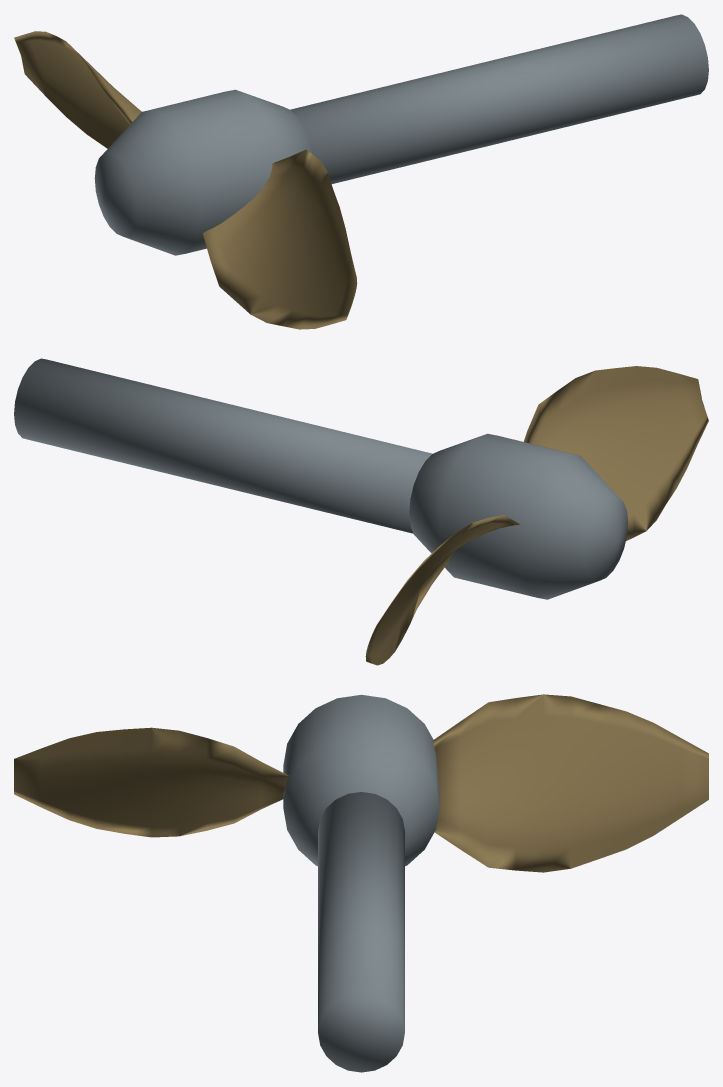
File: PROP_T01_EARLY_LOD1.fbx
3 renders of one model, top to bottom at view 1: azimuth 30°, elevation 25°; view 2: azimuth 150°, elevation 25°; view 3: azimuth 270°, elevation 25°, orthographic. The views are drawn at different scales.
Visible parts, largest first — view 1: PROP_T01_EARLY_LOD1_Shaft.001, PROP_T01_EARLY_LOD1_Hub.001, PROP_T01_EARLY_LOD1_Blade_01.001, PROP_T01_EARLY_LOD1_Blade_00.001; view 2: PROP_T01_EARLY_LOD1_Shaft.001, PROP_T01_EARLY_LOD1_Hub.001, PROP_T01_EARLY_LOD1_Blade_01.001, PROP_T01_EARLY_LOD1_Blade_00.001; view 3: PROP_T01_EARLY_LOD1_Blade_00.001, PROP_T01_EARLY_LOD1_Shaft.001, PROP_T01_EARLY_LOD1_Blade_01.001, PROP_T01_EARLY_LOD1_Hub.001.
Part boxes in pixels (x1,y1,x2,y2): PROP_T01_EARLY_LOD1_Shaft.001: (290, 14, 708, 183); PROP_T01_EARLY_LOD1_Hub.001: (94, 89, 312, 255); PROP_T01_EARLY_LOD1_Blade_01.001: (202, 149, 357, 329); PROP_T01_EARLY_LOD1_Blade_00.001: (14, 31, 141, 148); PROP_T01_EARLY_LOD1_Shaft.001: (14, 358, 432, 533); PROP_T01_EARLY_LOD1_Hub.001: (409, 433, 628, 599); PROP_T01_EARLY_LOD1_Blade_01.001: (523, 366, 708, 540); PROP_T01_EARLY_LOD1_Blade_00.001: (365, 514, 519, 665); PROP_T01_EARLY_LOD1_Blade_00.001: (433, 694, 708, 872); PROP_T01_EARLY_LOD1_Shaft.001: (318, 792, 404, 1072); PROP_T01_EARLY_LOD1_Blade_01.001: (14, 727, 289, 837); PROP_T01_EARLY_LOD1_Hub.001: (283, 694, 439, 866).
Bounding box in the file's own units: 325 × 320 × 72.13.
